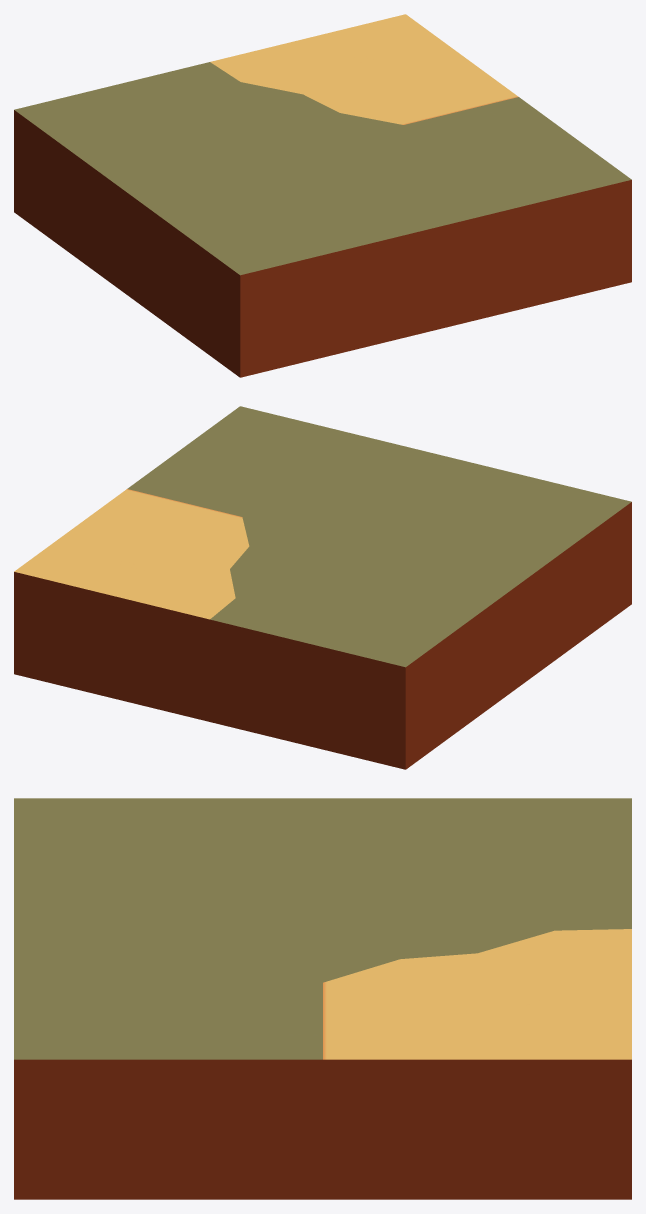
File: cornerExt_grass_to_sand.fbx
3 renders of one model, top to bottom at view 1: azimuth 30°, elevation 25°; view 2: azimuth 150°, elevation 25°; view 3: azimuth 270°, elevation 25°, orthographic. The views are drawn at different scales.
Visible parts, largest first — view 1: cornerExt_grass_to_sand; view 2: cornerExt_grass_to_sand; view 3: cornerExt_grass_to_sand.
Part boxes in pixels (left/top/right/bottom): cornerExt_grass_to_sand: left=14, top=14, right=631, bottom=377; cornerExt_grass_to_sand: left=14, top=406, right=631, bottom=769; cornerExt_grass_to_sand: left=14, top=798, right=631, bottom=1199.
Bounding box in the file's own units: 200 × 50 × 200.
1 material, 1 textured.
